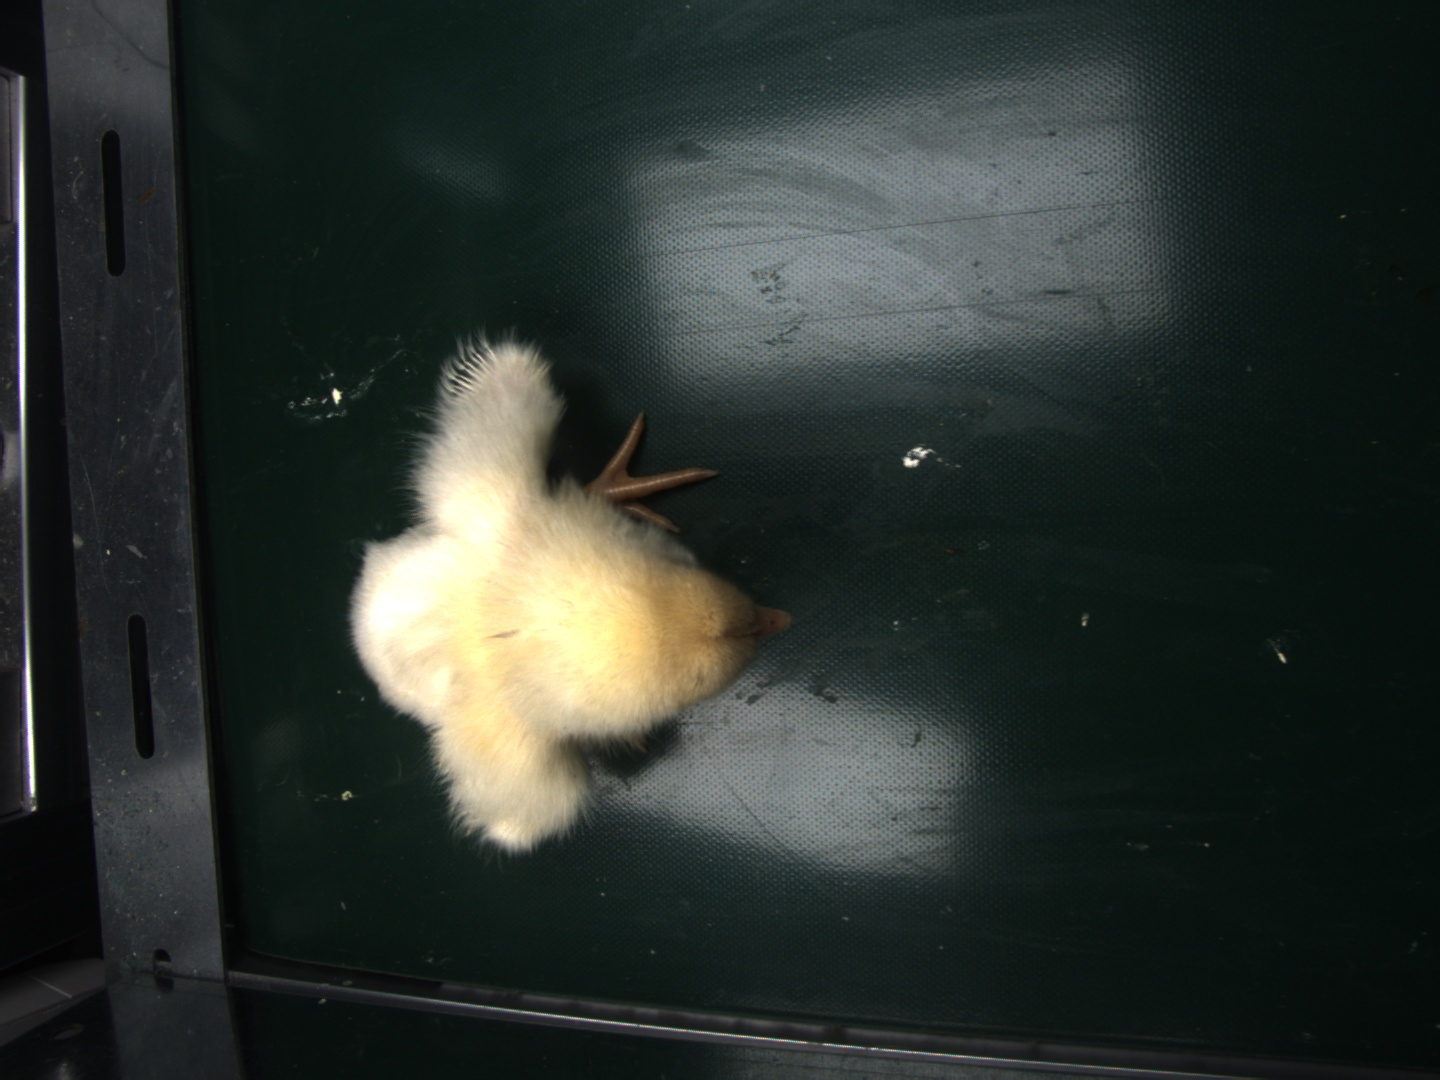male: (446, 346, 502, 404)
